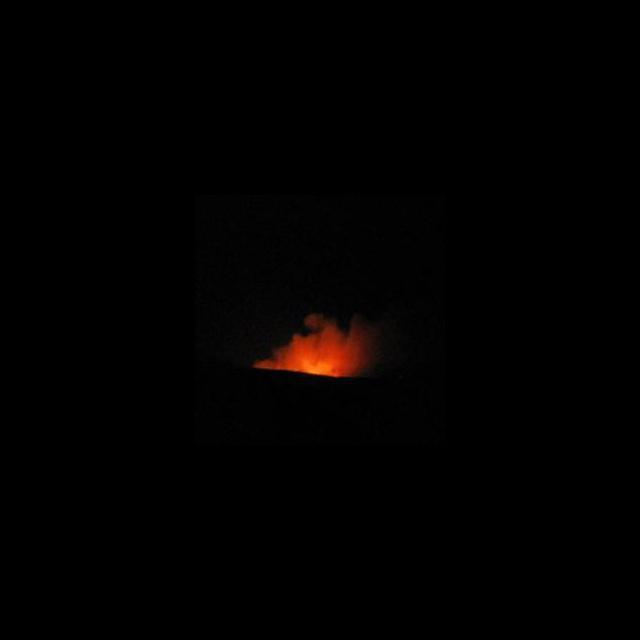Fire: (291, 352, 358, 378)
